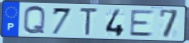4: (104, 8, 126, 38)
7: (50, 7, 74, 36), (158, 9, 180, 40)
E: (129, 9, 156, 37)
Q: (22, 5, 47, 36)
T: (79, 7, 100, 37)
